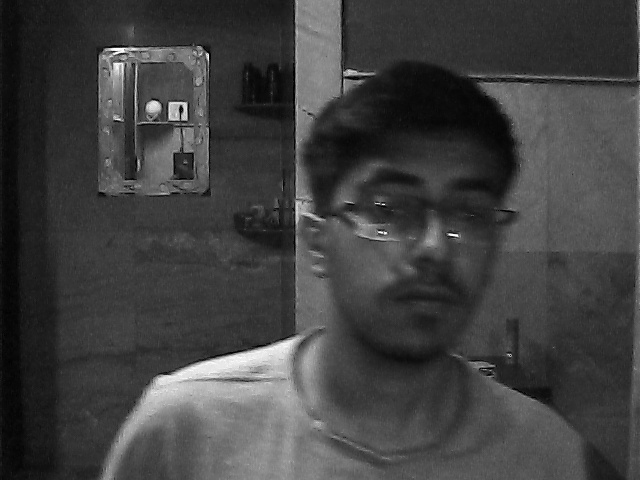nomask: (326, 115, 499, 367)
